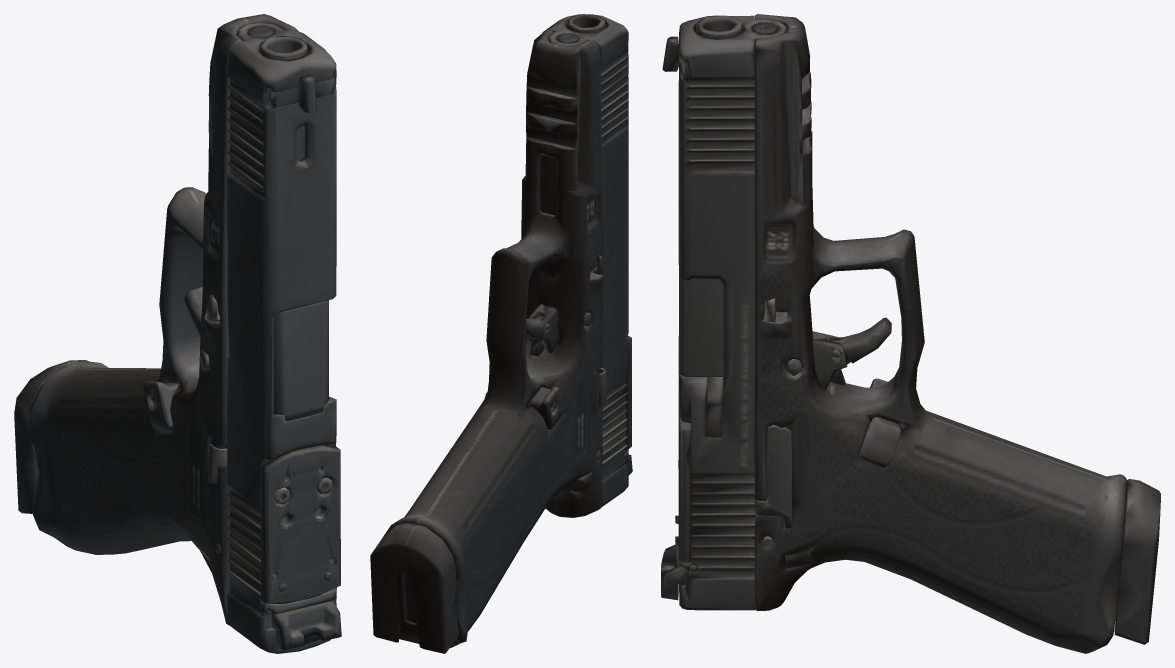
File: Glock.fbx
The picture shows the model from 3 angles, left to right: view 1: azimuth 30°, elevation 25°; view 2: azimuth 150°, elevation 25°; view 3: azimuth 270°, elevation 25°; orthographic projection. The views are drawn at different scales.
Visible parts, largest first — view 1: Glock; view 2: Glock; view 3: Glock.
Part boxes in pixels (bbox=[...]): Glock: bbox=[14, 14, 341, 653]; Glock: bbox=[370, 14, 632, 653]; Glock: bbox=[661, 14, 1160, 653].
Bounding box in the file's own units: 0.0266 × 0.1627 × 0.1179.
